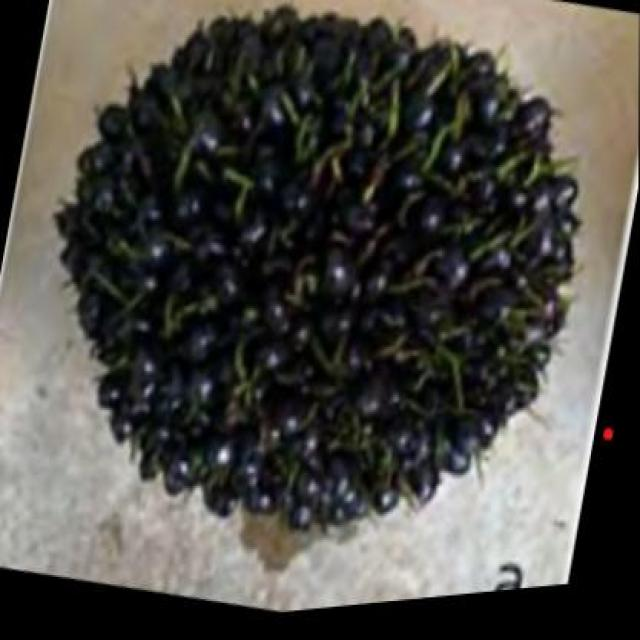Unripe: (1, 0, 614, 616)
